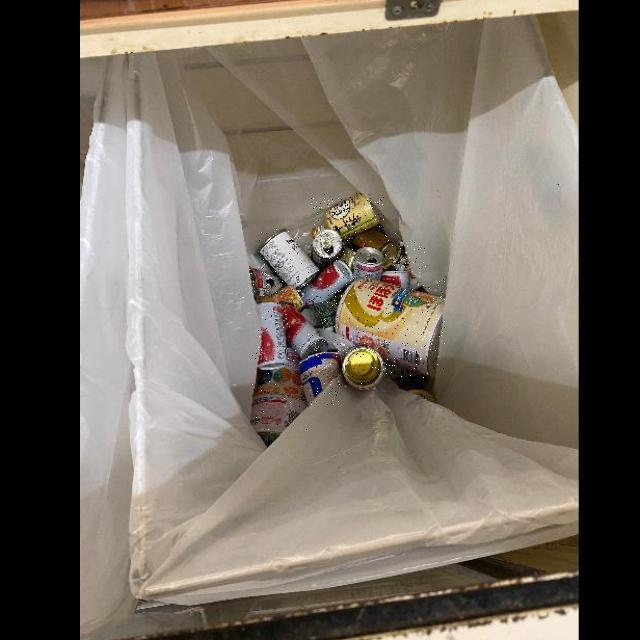metal: (335, 278, 445, 379), (250, 348, 308, 435), (259, 229, 320, 291), (311, 194, 384, 241), (280, 302, 329, 360), (298, 261, 354, 306), (299, 353, 340, 405), (258, 303, 289, 370), (351, 229, 400, 268), (342, 347, 384, 389), (393, 241, 426, 293), (299, 299, 340, 333), (312, 230, 341, 270), (260, 286, 304, 310), (354, 249, 384, 281), (249, 267, 267, 304), (338, 246, 356, 275), (381, 271, 410, 288), (264, 273, 281, 295)
